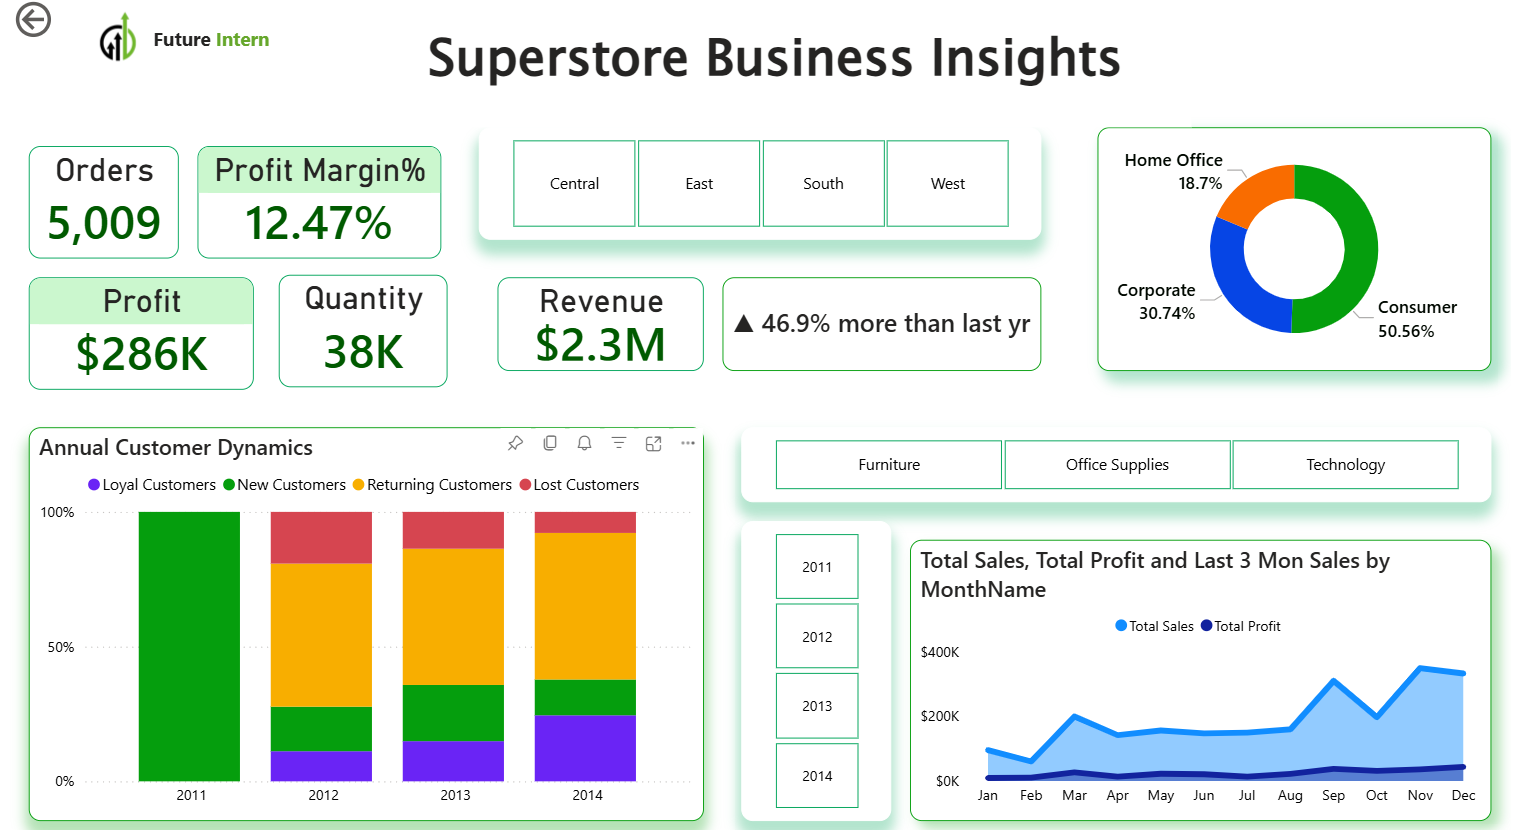

What the dashboard file says about the page in this screenshot:
{"tool":"powerbi","page":{"name":"Page 1","canvas":[1280,720],"ordinal":0},"visuals":[{"type":"card","fields":{"Values":["dim_calendar.Sales YoY Display"]},"box":[608,240,272,80],"z":0},{"type":"card","title":"Profit Margin%","fields":{"Values":["fact_orders.Margin %"]},"box":[160,128,208,96],"z":1000},{"type":"card","title":"Profit","fields":{"Values":["fact_orders.Total Profit"]},"box":[16,240,192,96],"z":2000},{"type":"actionButton","box":[0,0,100,40],"z":3000},{"type":"lineChart","fields":{"Y":["fact_orders.Total Sales","fact_orders.Total Profit"],"Category":["dim_calendar.MonthName"]},"box":[768,464,496,240],"z":4000},{"type":"slicer","fields":{"Values":["dim_region.Region"]},"box":[400,112,480,96],"z":5000},{"type":"slicer","title":"Product_Category","fields":{"Values":["dim_product.Category"]},"box":[624,368,640,64],"z":6000},{"type":"donutChart","fields":{"Y":["fact_orders.Total Sales"],"Category":["dim_customer.Segment"]},"box":[928,112,336,208],"z":7000},{"type":"card","title":"Quantity","fields":{"Values":["fact_orders.Total Quantity"]},"box":[229.8,237.7,144,96],"z":8000},{"type":"card","title":"Orders","fields":{"Values":["fact_orders.Total Orders"]},"box":[16,128,128,96],"z":9000},{"type":"textbox","box":[352,16,656,96],"z":10000},{"type":"card","title":"Revenue ","fields":{"Values":["fact_orders.Total Sales"]},"box":[416,240,176,80],"z":11000},{"type":"image","box":[60.9,4.5,64,64],"z":12000},{"type":"textbox","box":[116.9,20.5,120,32],"z":13000},{"type":"hundredPercentStackedColumnChart","title":"Annual Customer Dynamics","fields":{"Y":["dim_customer.Loyal Customers","dim_customer.New Customers","dim_customer.Returning Customers","dim_customer.Lost Customers"],"Category":["dim_calendar.DateValue.Variation.Date Hierarchy.Year"]},"box":[16,368,576,336],"z":14000},{"type":"slicer","fields":{"Values":["dim_calendar.DateValue.Variation.Date Hierarchy.Year"]},"box":[624,448,128,256],"z":15000}]}

Visuals, with their boxes on the page's 1280x720 design canvas (x1, y1, x2, y2). These are canvas units, not pixel positions in the 1521x830 screenshot, which may show the page scaled, cropped or inside an application window:
card - dim_calendar.Sales YoY Display: (left=608, top=240, right=880, bottom=320)
"Profit Margin%" card: (left=160, top=128, right=368, bottom=224)
"Profit" card: (left=16, top=240, right=208, bottom=336)
actionButton: (left=0, top=0, right=100, bottom=40)
lineChart - fact_orders.Total Sales x fact_orders.Total Profit: (left=768, top=464, right=1264, bottom=704)
slicer - dim_region.Region: (left=400, top=112, right=880, bottom=208)
"Product_Category" slicer: (left=624, top=368, right=1264, bottom=432)
donutChart - fact_orders.Total Sales x dim_customer.Segment: (left=928, top=112, right=1264, bottom=320)
"Quantity" card: (left=230, top=238, right=374, bottom=334)
"Orders" card: (left=16, top=128, right=144, bottom=224)
textbox: (left=352, top=16, right=1008, bottom=112)
"Revenue " card: (left=416, top=240, right=592, bottom=320)
image: (left=61, top=4, right=125, bottom=68)
textbox: (left=117, top=20, right=237, bottom=52)
"Annual Customer Dynamics" hundredPercentStackedColumnChart: (left=16, top=368, right=592, bottom=704)
slicer - dim_calendar.DateValue.Variation.Date Hierarchy.Year: (left=624, top=448, right=752, bottom=704)
